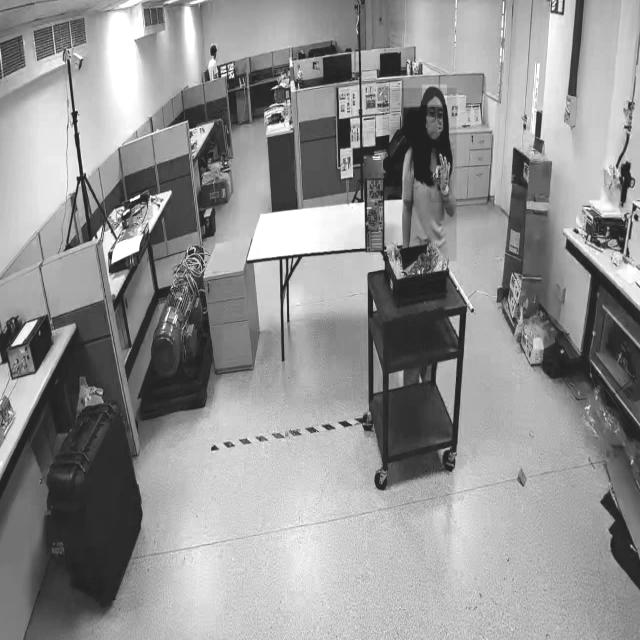face_mask: (423, 106, 446, 148)
glasses: (424, 107, 448, 126)
hand_glove: (429, 150, 455, 204)
head_nohelmet: (421, 84, 447, 106), (210, 44, 218, 50)
person: (382, 88, 456, 262)
